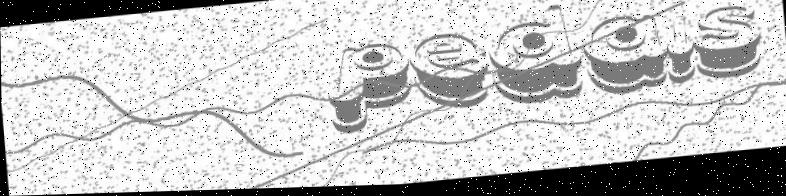a: (576, 12, 669, 104)
d: (474, 6, 586, 112)
e: (406, 31, 489, 117)
i: (657, 1, 696, 89)
p: (323, 36, 415, 140)
s: (685, 1, 763, 88)
